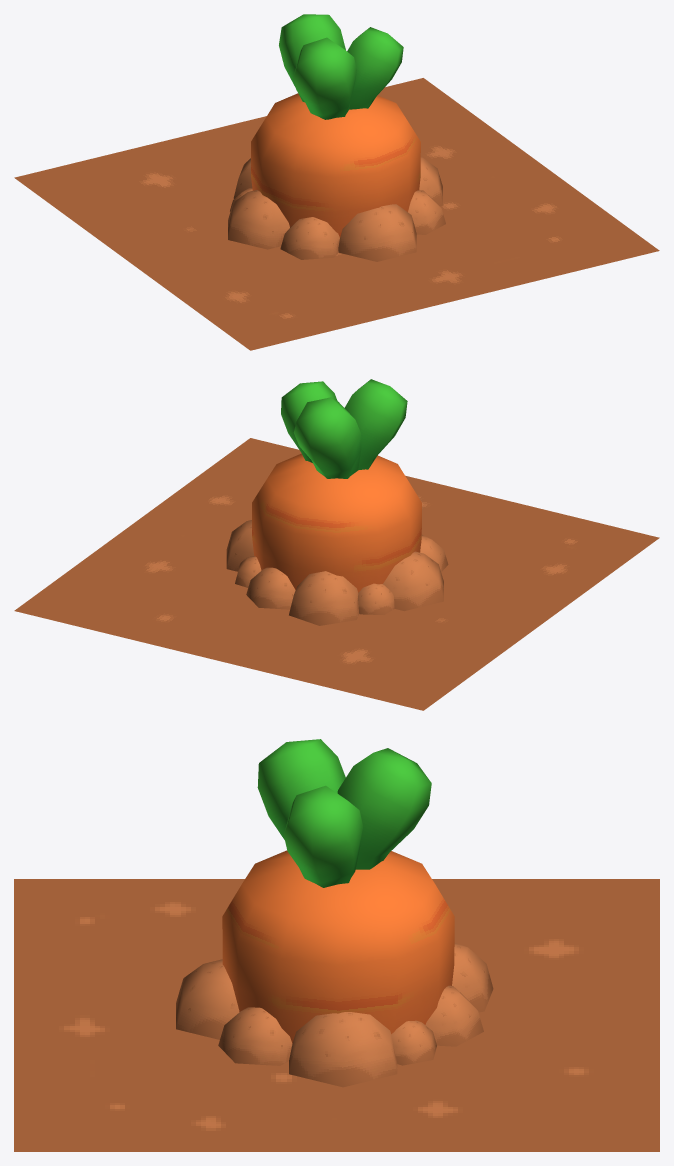
3 renders of one model, top to bottom at view 1: azimuth 30°, elevation 25°; view 2: azimuth 150°, elevation 25°; view 3: azimuth 270°, elevation 25°, orthographic. The views are drawn at different scales.
Visible parts, largest first — view 1: pSphere30; view 2: pSphere30; view 3: pSphere30.
Part boxes in pixels (left/top/right/bottom): pSphere30: left=14, top=14, right=659, bottom=350; pSphere30: left=14, top=379, right=659, bottom=710; pSphere30: left=14, top=739, right=659, bottom=1151.
Size of the model in its own units: 0.0576 by 0.0254 by 0.0576.
Materials: 2 (2 with a texture image).
